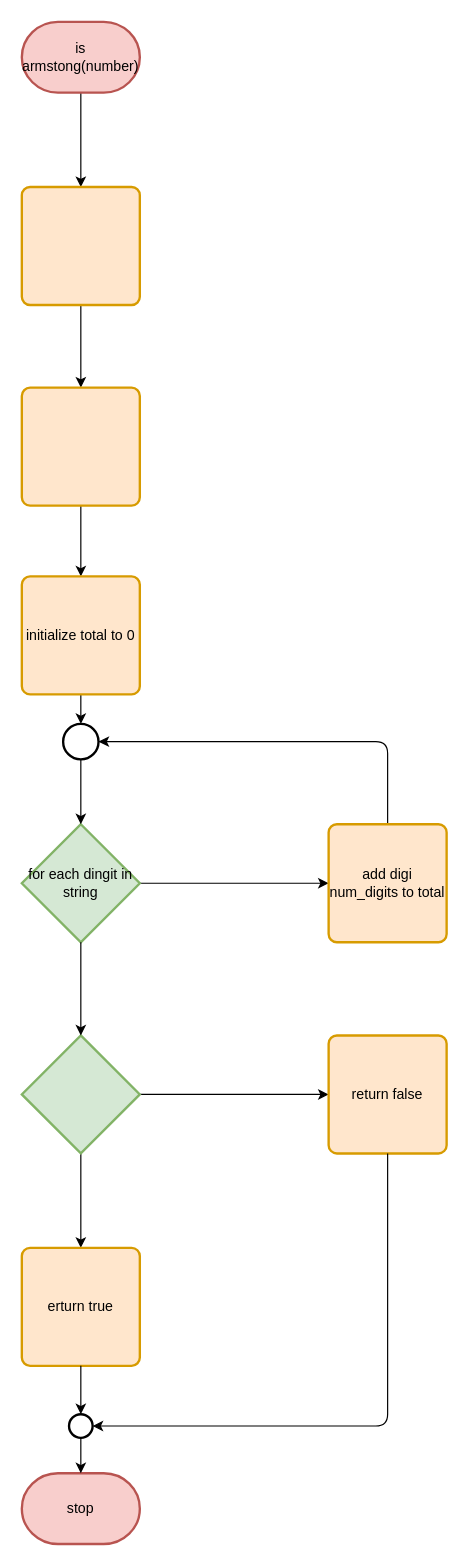
The diagram is 467 pixels wide and 1565 high, and some of its shapes have lost their labels. Each missing label, with the centre of its shape:
"convert number to string" goes at (80,245).
"get number of digits" goes at (80,446).
"is total equal to number?" goes at (80,1094).
